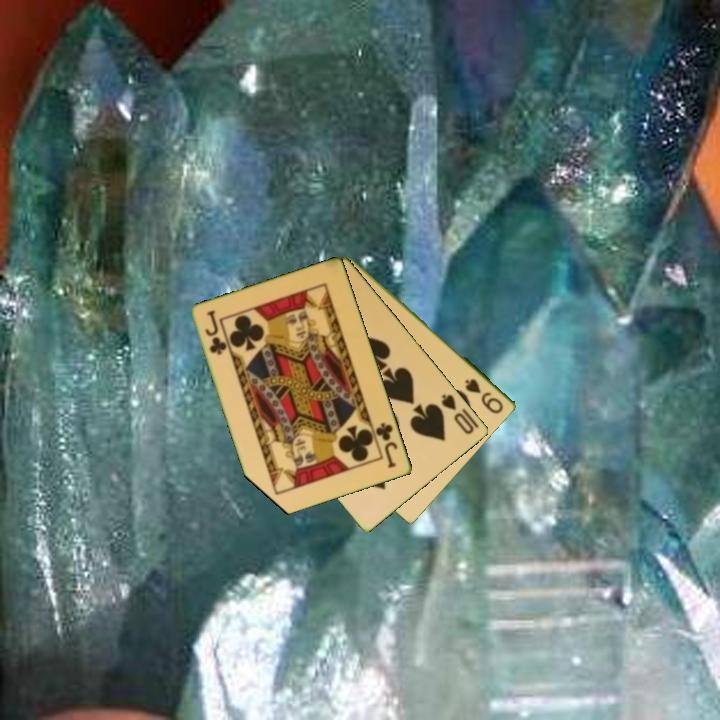10s: (438, 390, 477, 437)
9s: (462, 375, 507, 417)
Jc: (372, 419, 401, 471), (202, 307, 229, 358)
